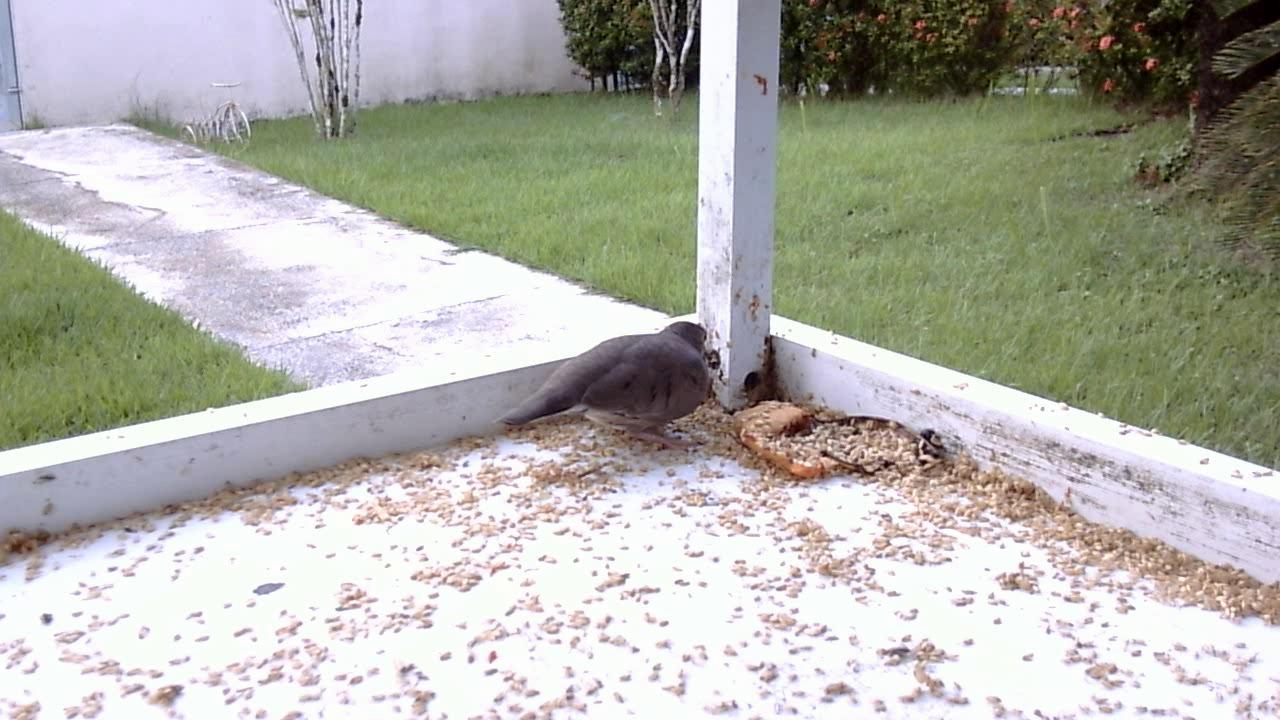rolinha: (488, 307, 718, 447)
